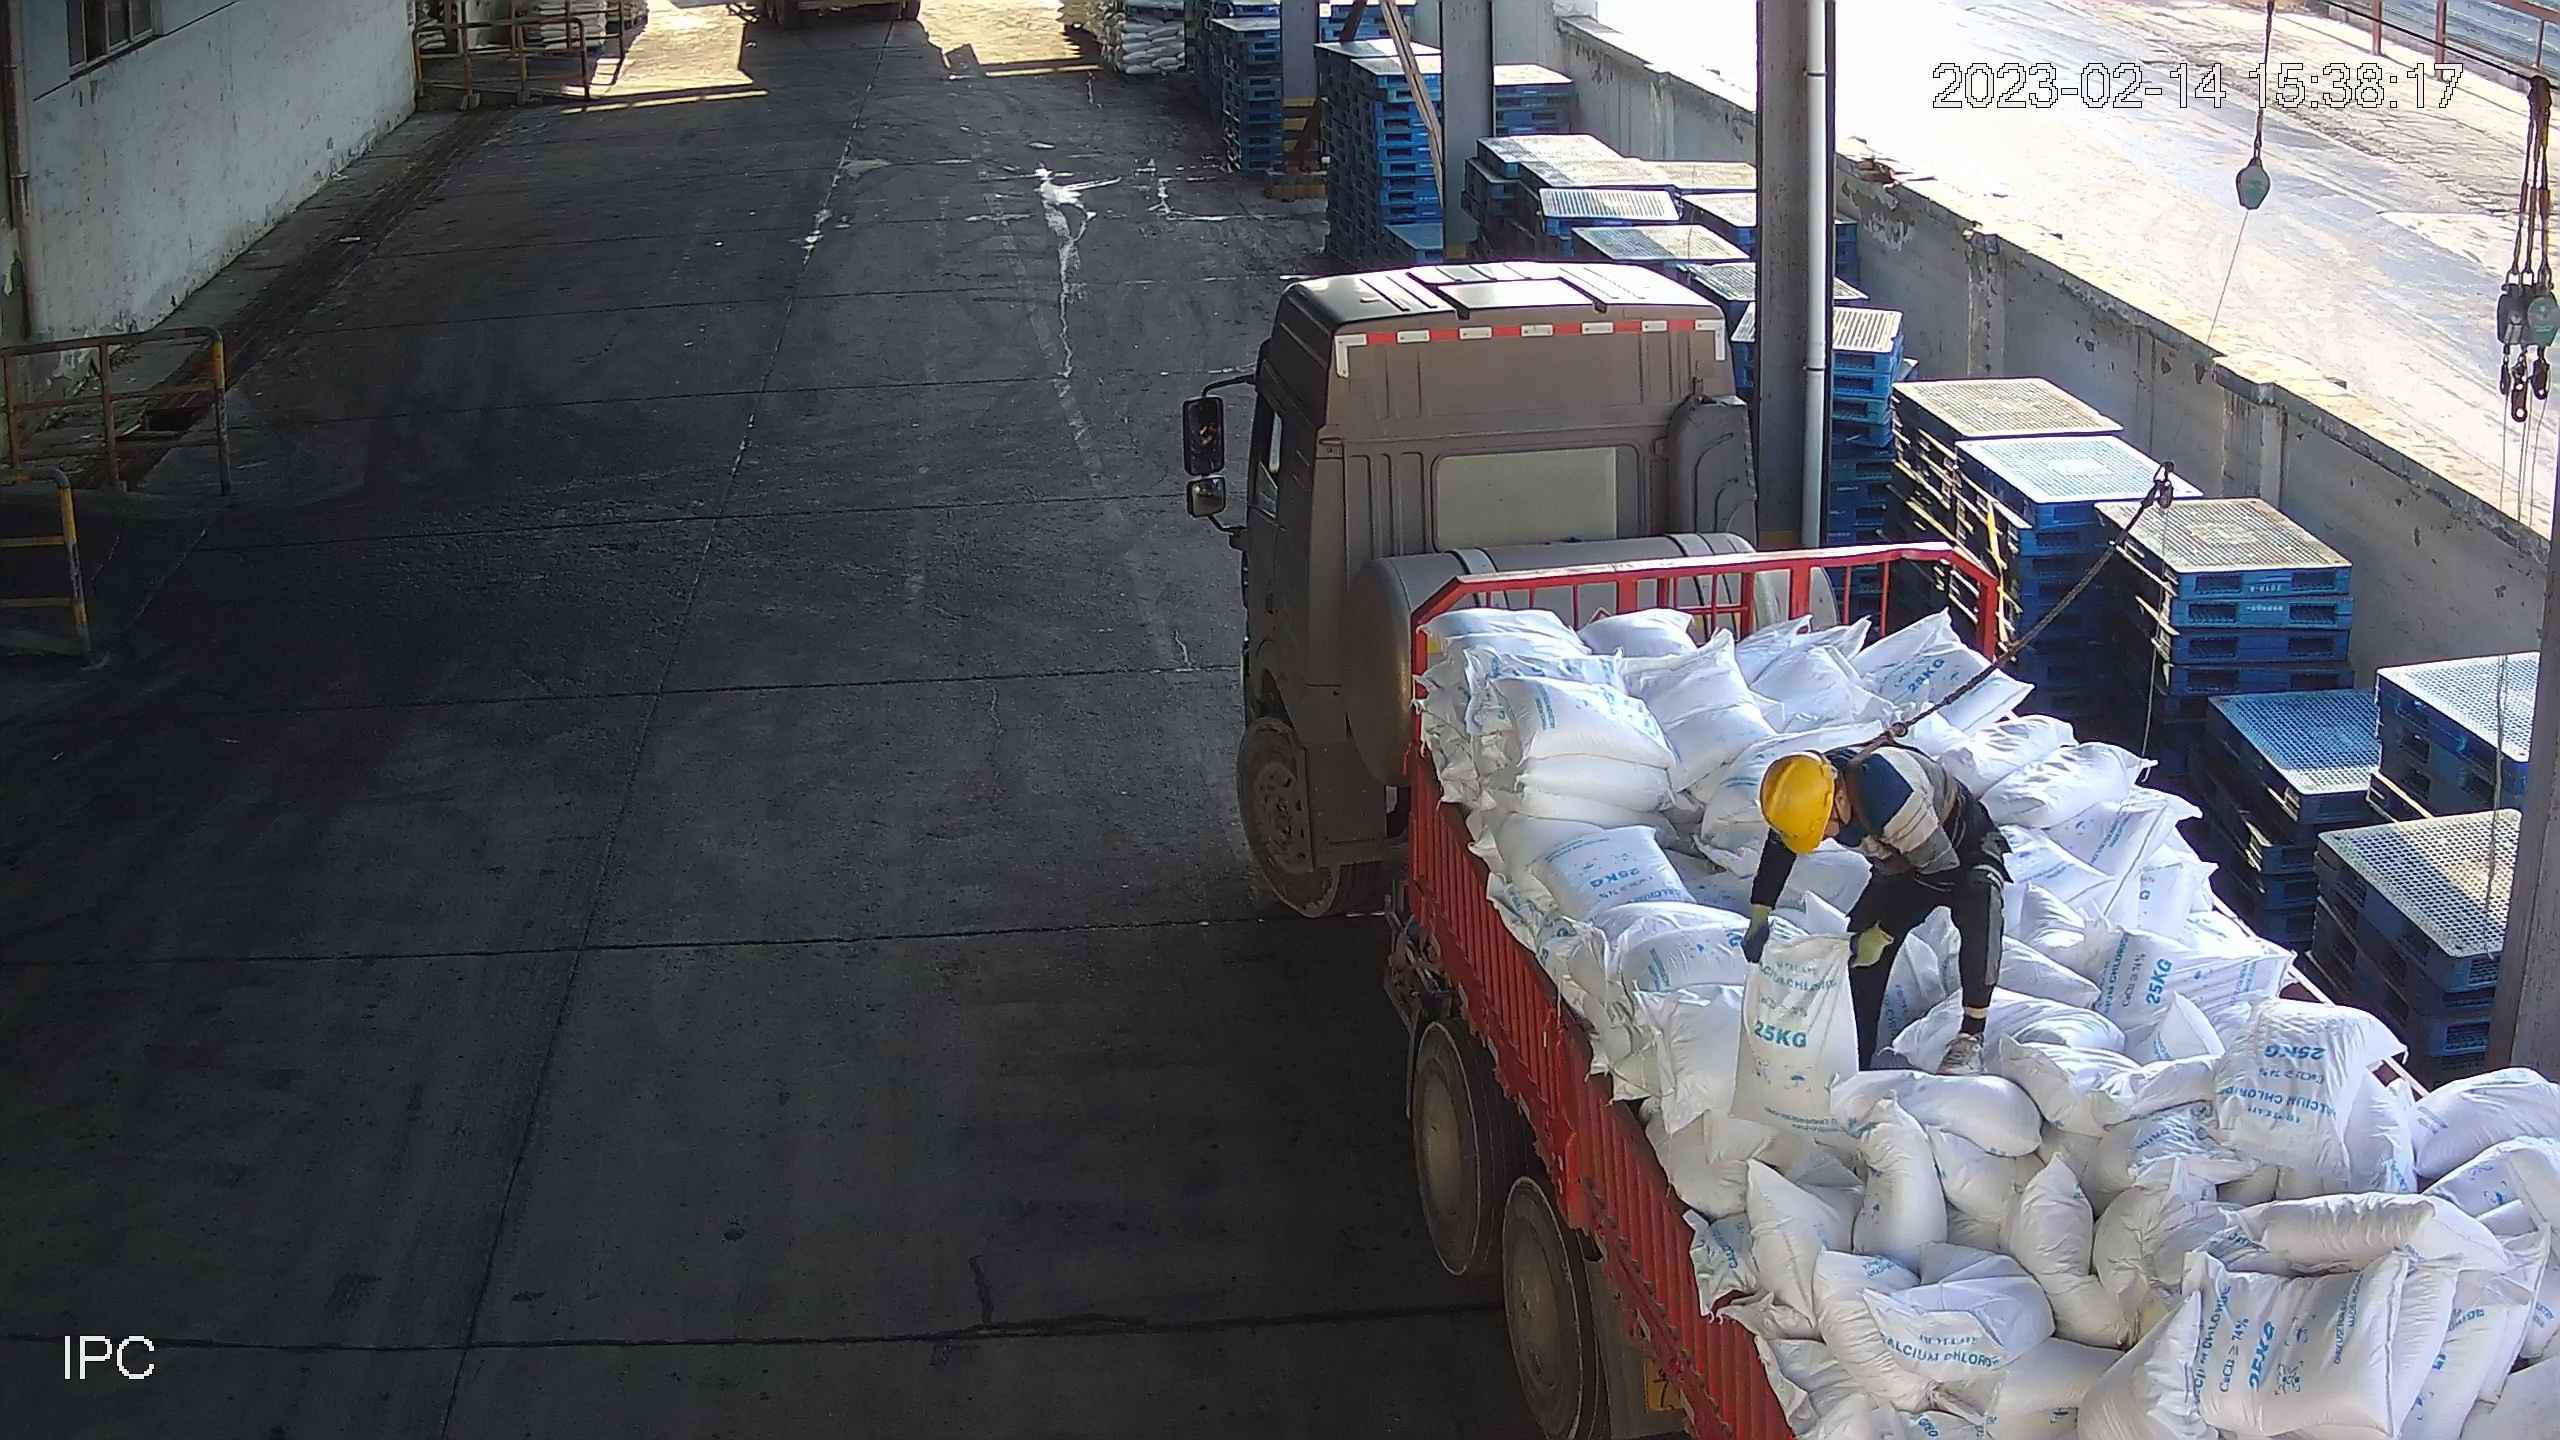belt: (1840, 717, 1899, 843)
head: (1738, 745, 1933, 873)
helmet: (1751, 756, 1840, 864)
people: (1742, 742, 2014, 1073)
truck: (1183, 269, 2560, 1440)
